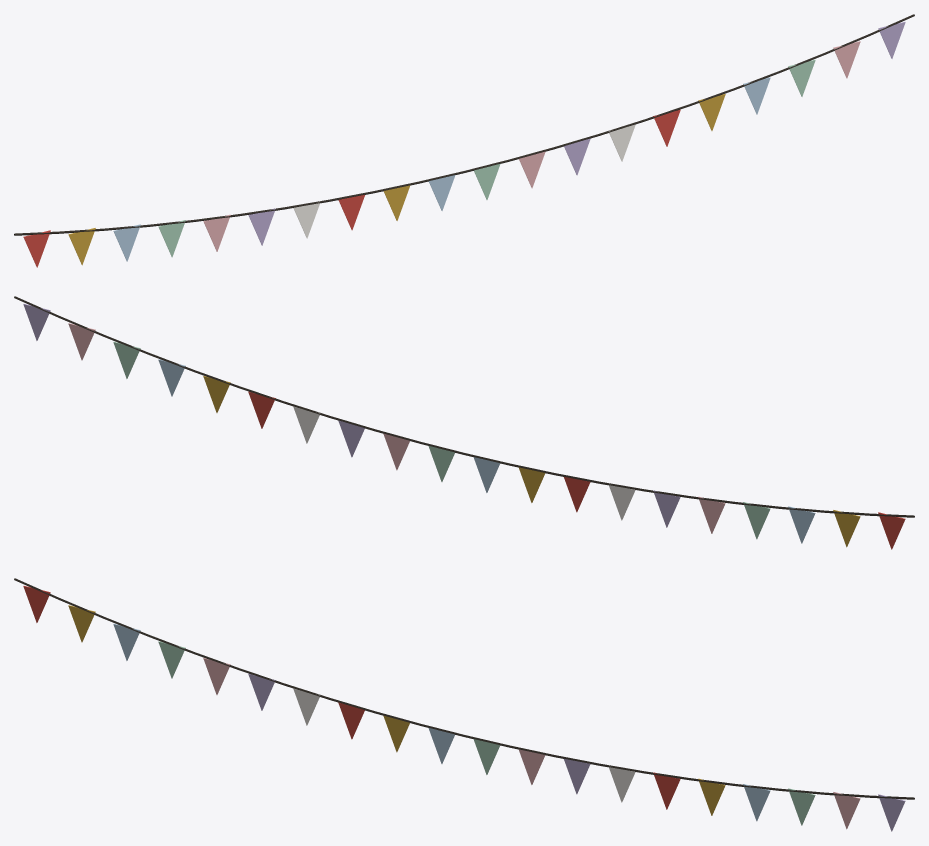
Rendered from pennants.glb.
3 renders of one model, top to bottom at view 1: azimuth 30°, elevation 25°; view 2: azimuth 150°, elevation 25°; view 3: azimuth 330°, elevation 25°, orthographic.
Visible parts, largest first — view 1: pennants; view 2: pennants; view 3: pennants.
Boxes of the visible parts, x1,y1,x2,y2 form: pennants: (14,14,914,267); pennants: (14,296,914,549); pennants: (14,578,914,831).
Size of the model in its own units: 10 by 0.8705 by 0.024.
